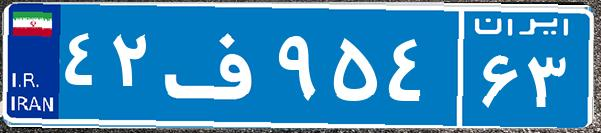2: (110, 28, 158, 105)
3: (525, 38, 570, 115)
4: (385, 28, 445, 110), (57, 26, 110, 107)
5: (330, 28, 385, 110)
6: (475, 38, 525, 113)
9: (273, 28, 330, 110)
ف: (158, 15, 273, 115)
